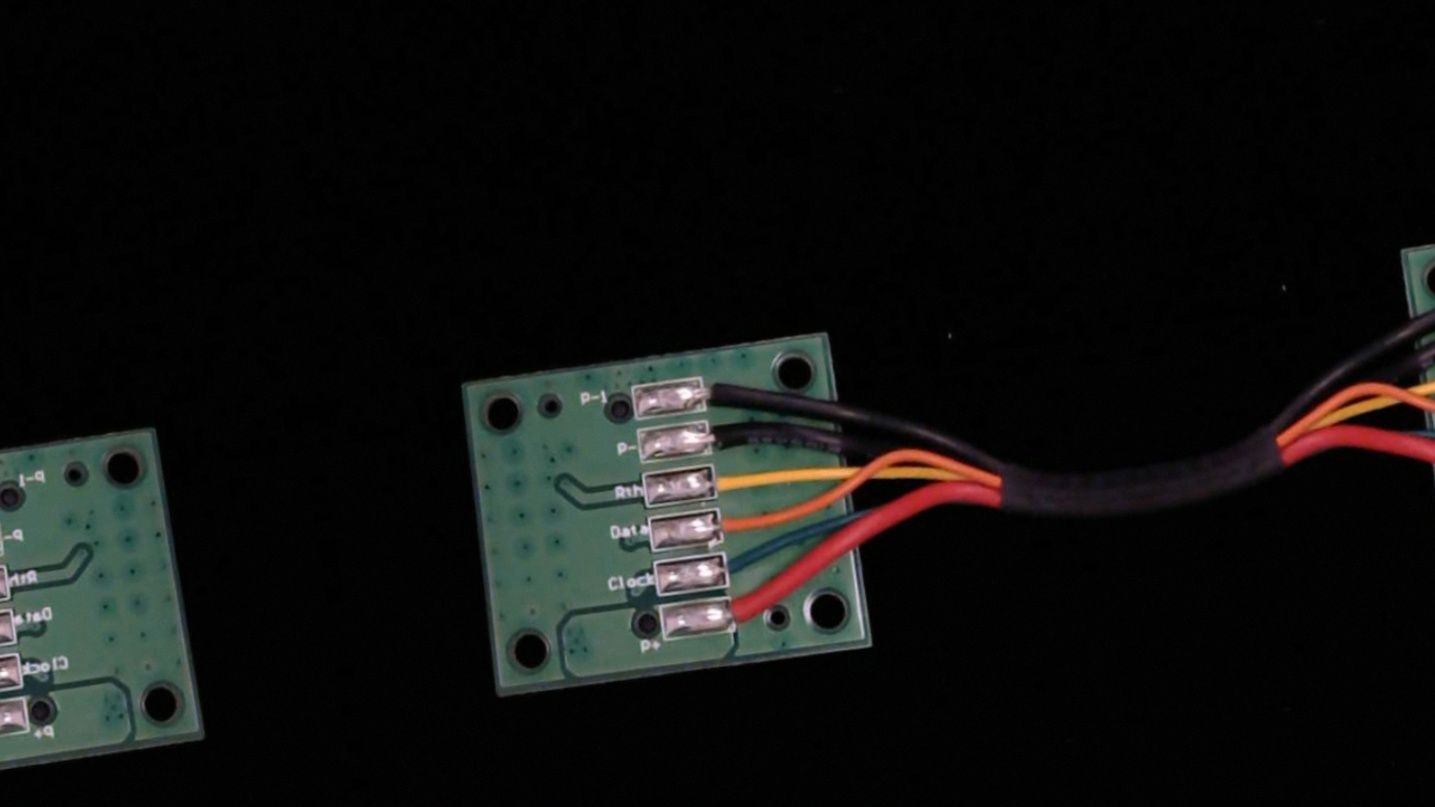Black: (681, 407, 769, 458)
Black1: (678, 364, 759, 412)
Green: (701, 543, 774, 589)
Orange: (696, 496, 782, 544)
Red: (708, 585, 793, 635)
Yellow: (690, 455, 779, 506)
